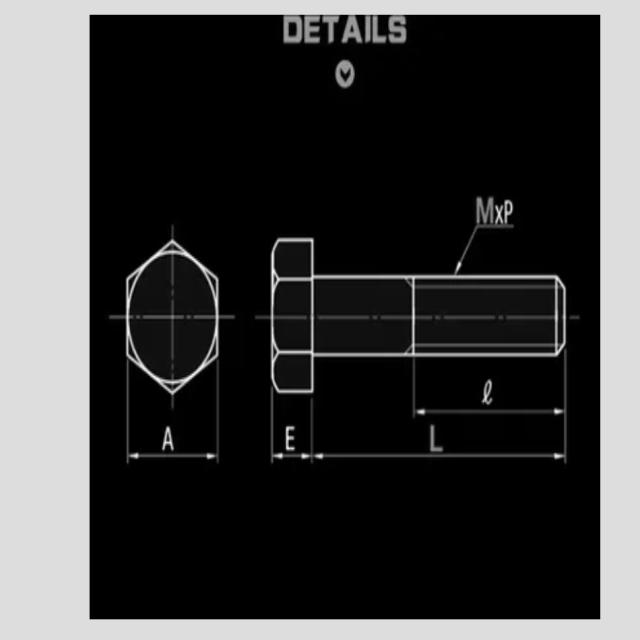marking_line: (314, 452, 563, 460), (417, 409, 561, 418), (130, 453, 223, 464), (273, 449, 310, 461)
